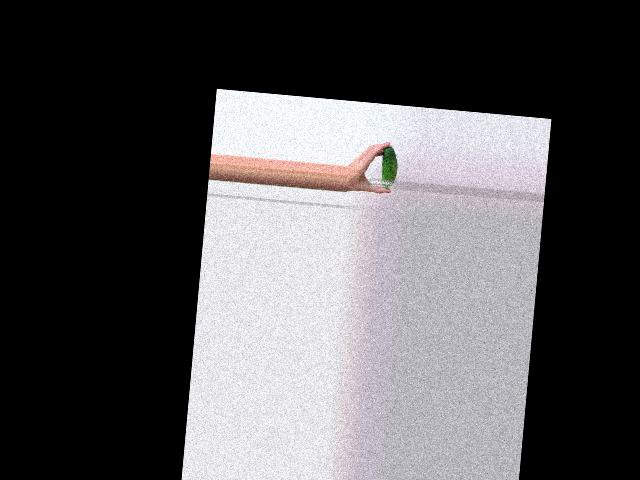cucumber: (380, 146, 399, 189)
